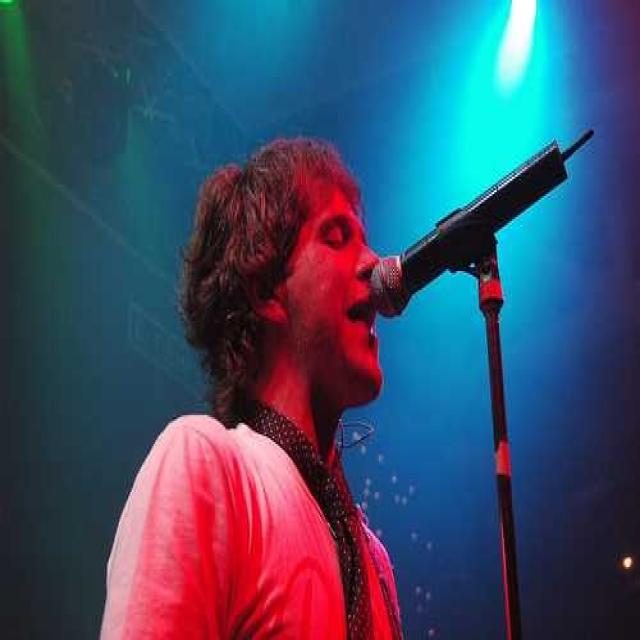microphone: (378, 132, 590, 316)
